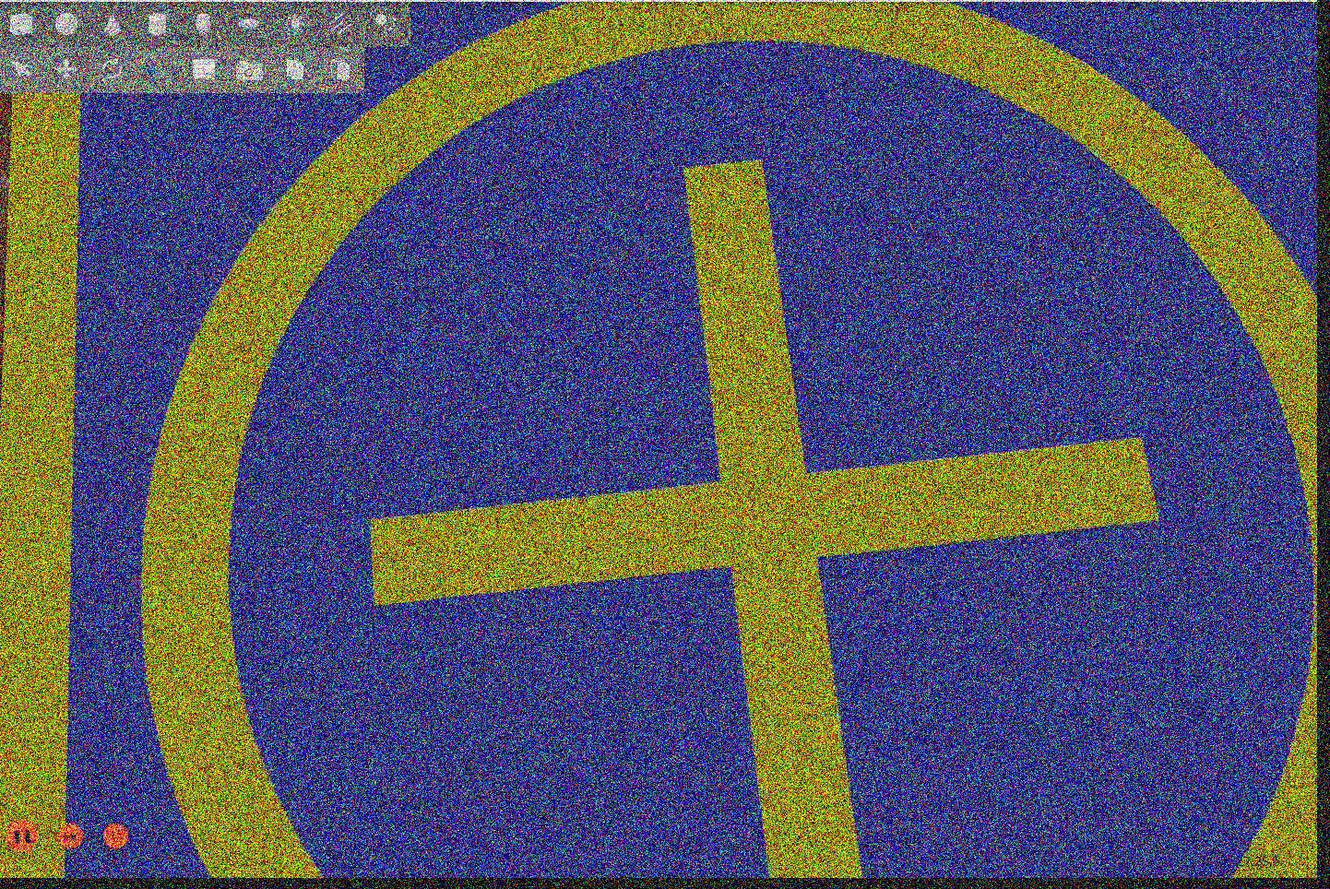small_base: (1, 5, 1317, 876)
